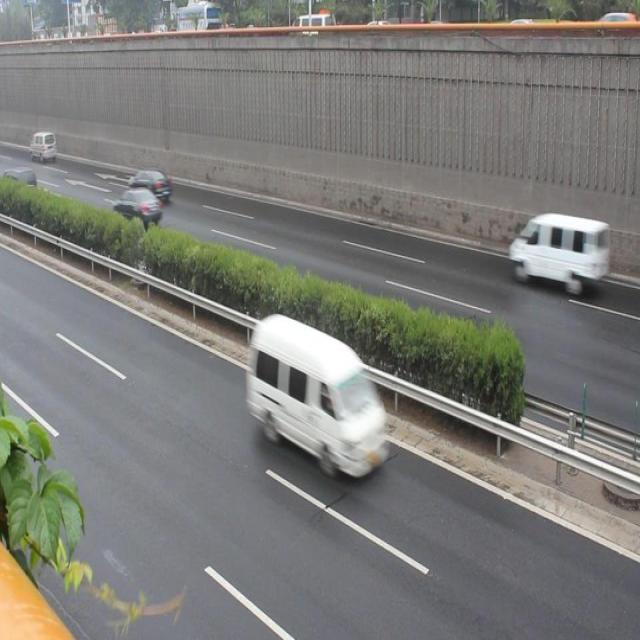car: (113, 178, 157, 230), (123, 164, 175, 205)
truck: (244, 313, 393, 485), (508, 209, 612, 295)
